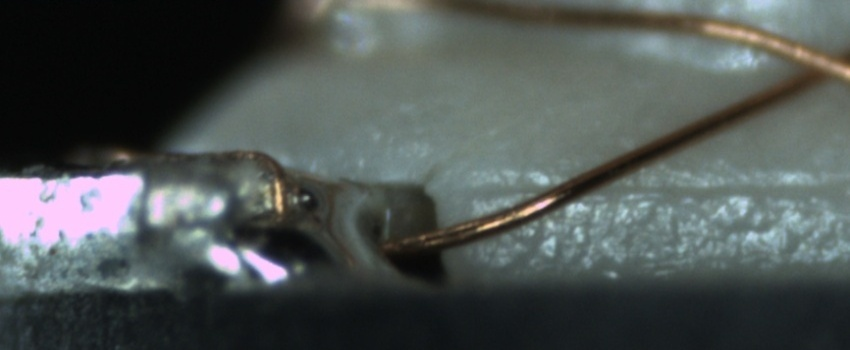CL: (764, 37, 849, 102)
DL: (465, 155, 849, 220)
TE: (97, 141, 294, 232)
